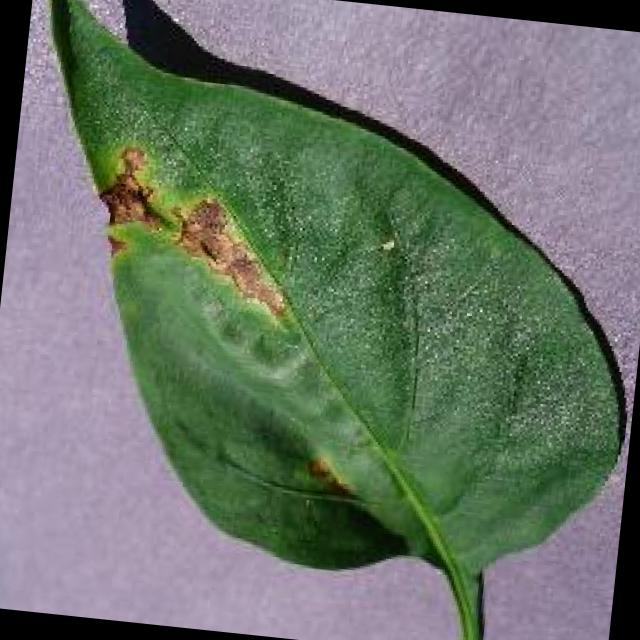Chilli_Bacterial_Spot: (0, 0, 640, 640), (58, 138, 454, 580), (82, 138, 306, 326), (158, 188, 300, 324), (89, 138, 175, 255), (168, 190, 238, 266), (294, 448, 362, 502), (111, 140, 150, 181), (298, 452, 333, 484), (369, 230, 402, 260)
